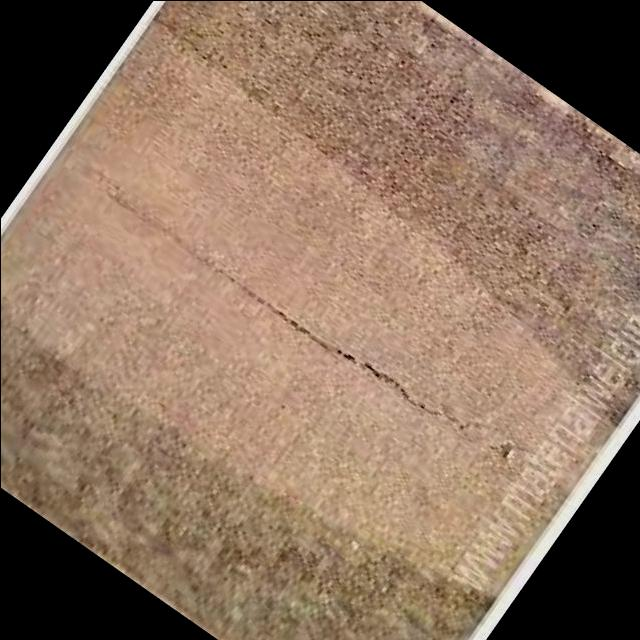defect: (99, 182, 500, 432)
